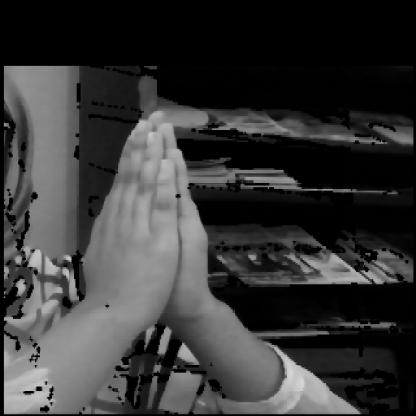namaste: (66, 98, 244, 380)
